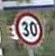limite 30: (12, 8, 43, 47)
